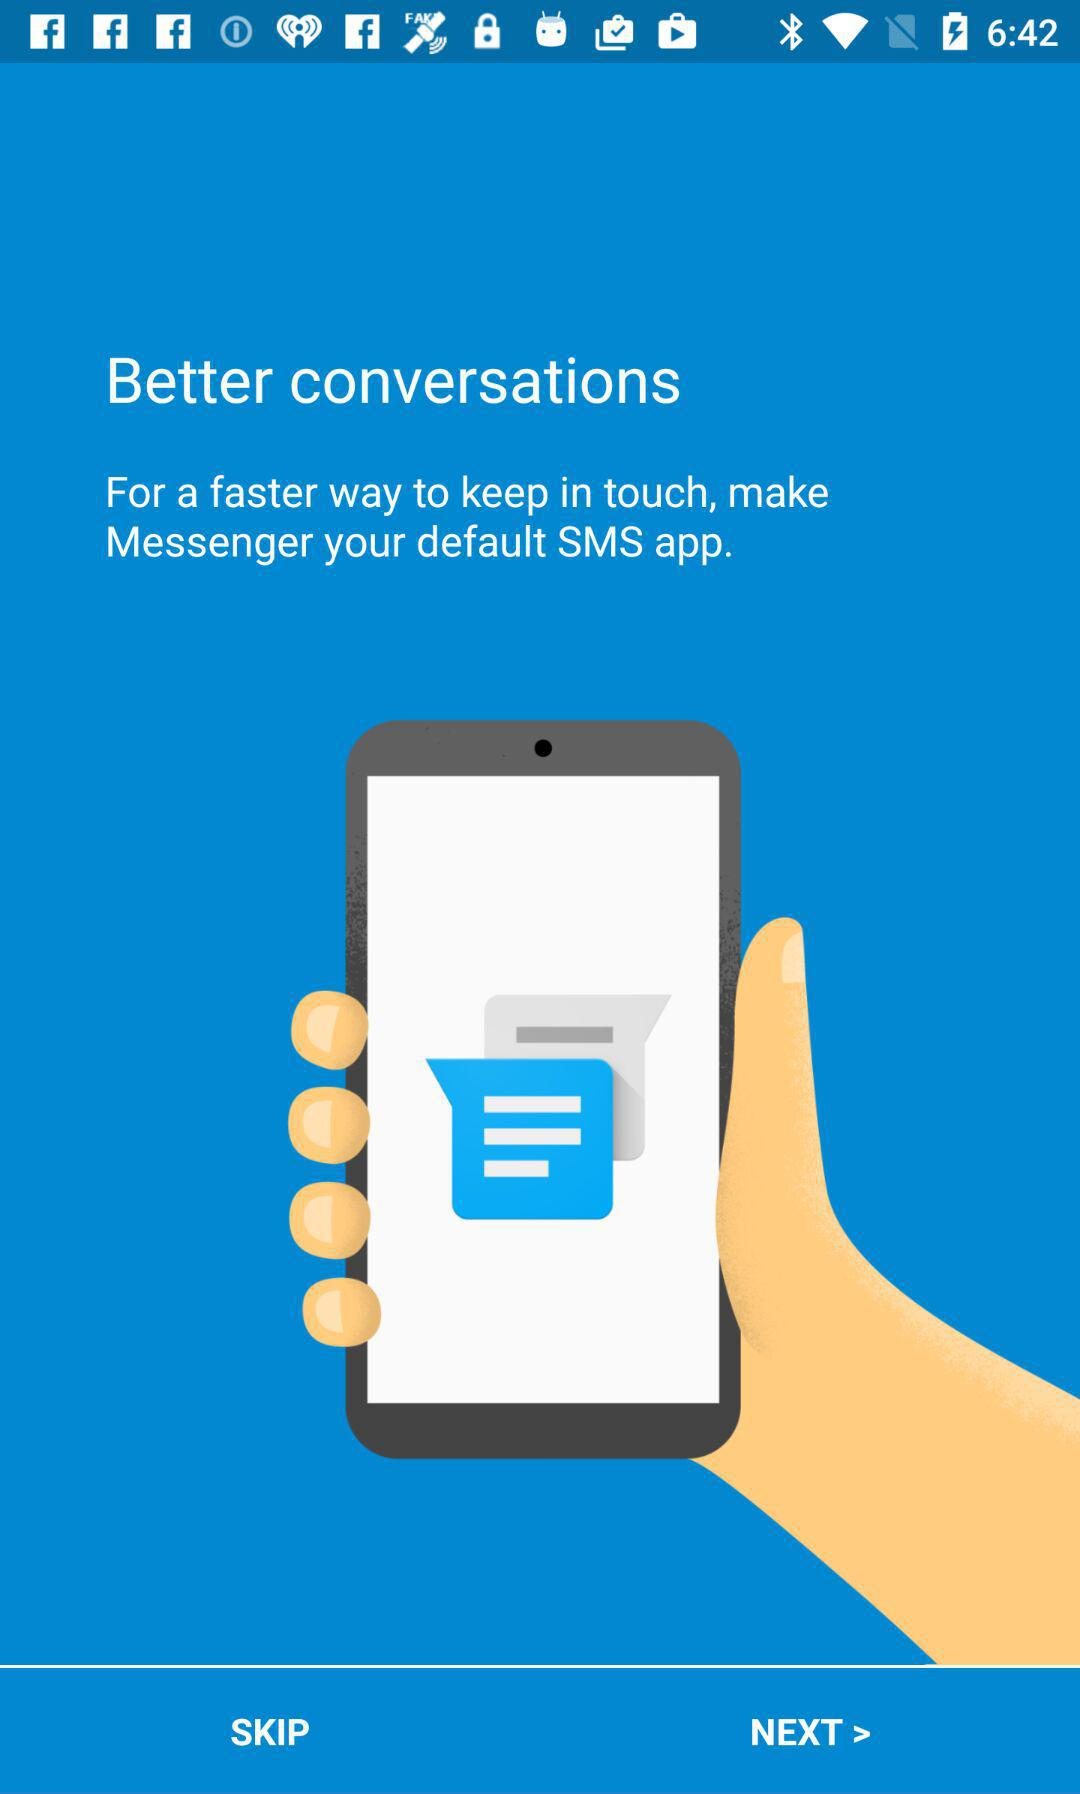Image: (286, 718, 1080, 1665)
Text: (105, 473, 830, 570), (108, 356, 682, 409), (751, 1716, 872, 1748), (229, 1716, 313, 1747)
UpperTaskBar: (1, 1, 1080, 64)
